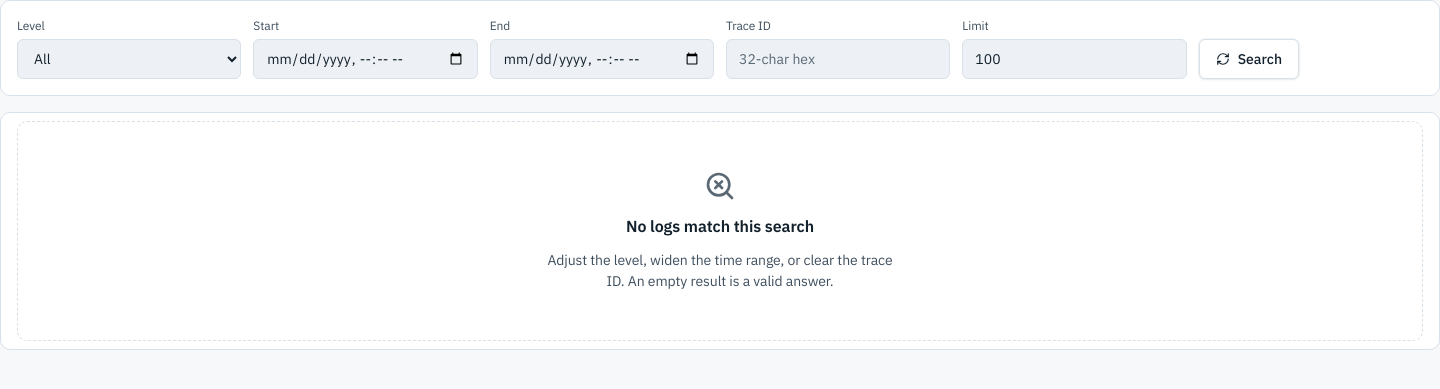
Test case: GlobalLogs › disables Search when the date range is inverted
Type "2026-01-02T00:00" into the field labelled "Start".
click(365, 59); type("2026-01-02T00:00")  # box [253, 39, 478, 79]
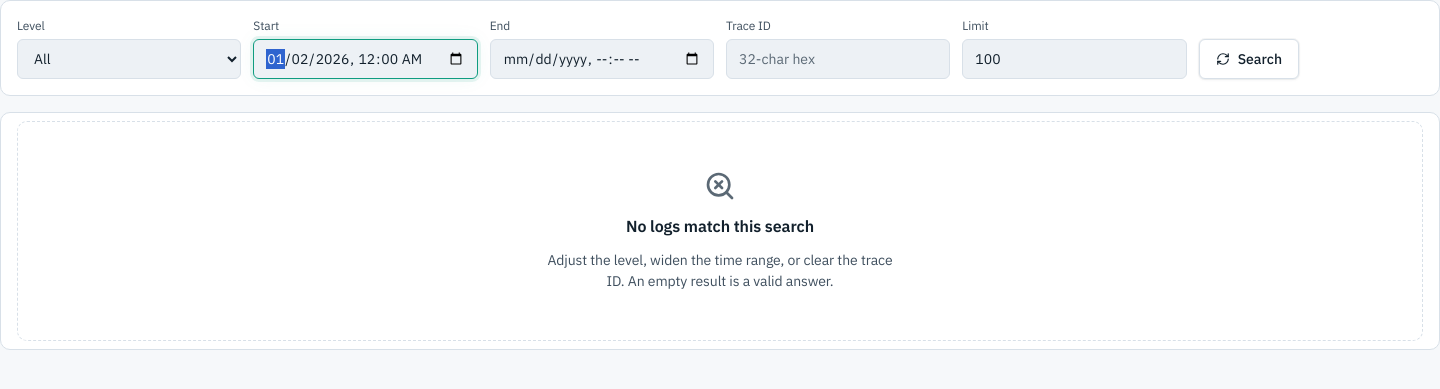
Type "2026-01-01T00:00" into the field labelled "End".
click(602, 59); type("2026-01-01T00:00")  # box [490, 39, 714, 79]
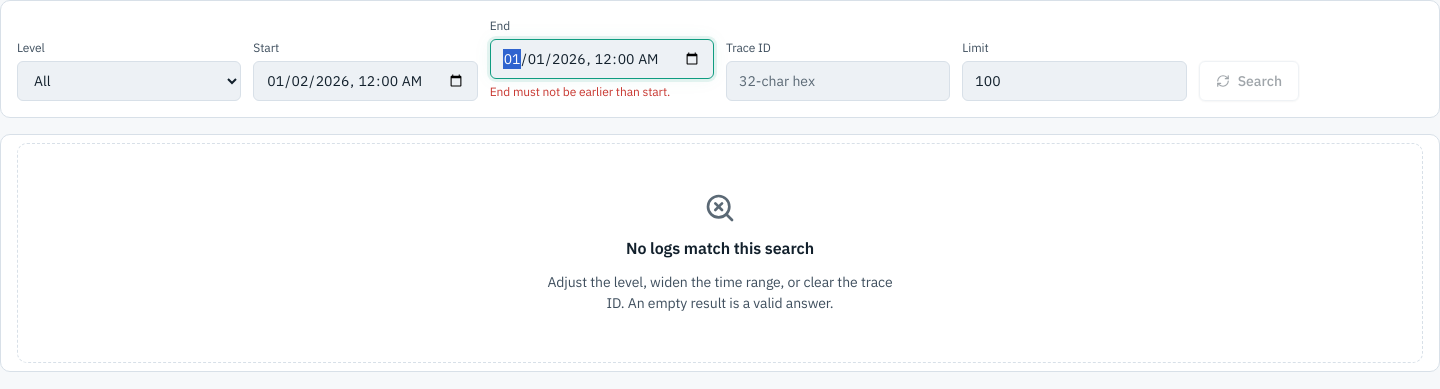
Expected: the button "Search" is disabled, [1199, 61, 1299, 101]
Expected: the text "End must not be earlier than start." is shown, [490, 84, 670, 99]
